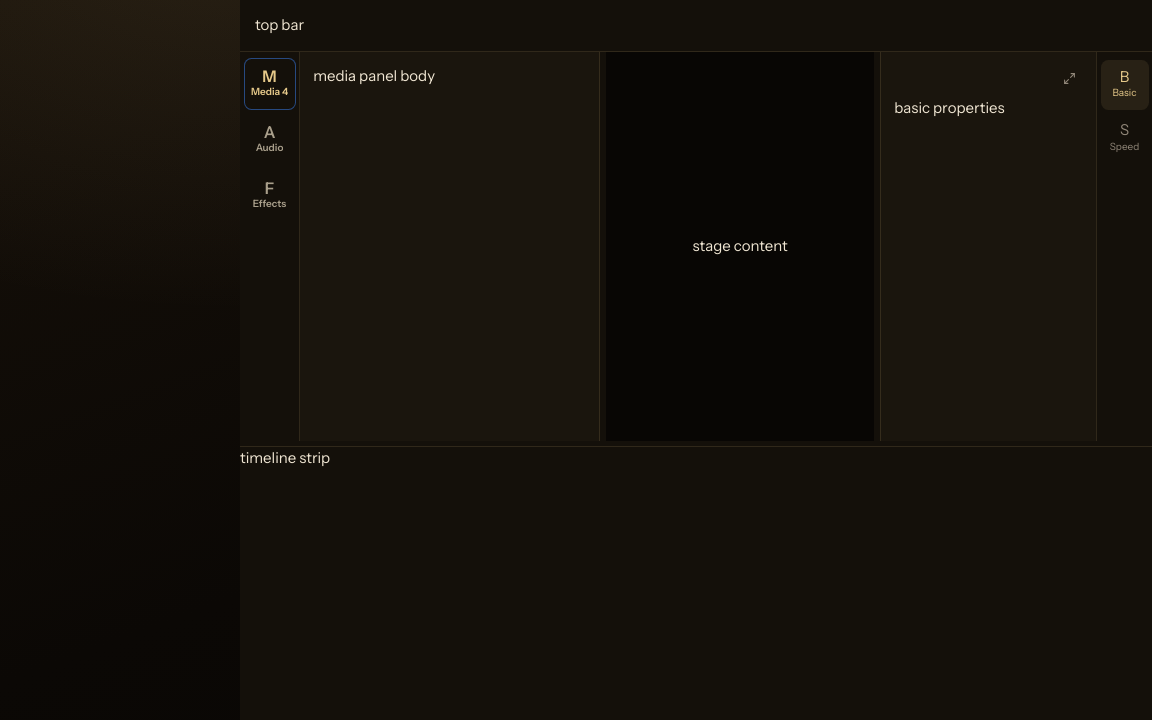
Scenario: EditorShell › switches property panels independently of the tool rail
Click the tab "S Speed" at x=1124, y=138, box left=1100, top=113, right=1148, bottom=163
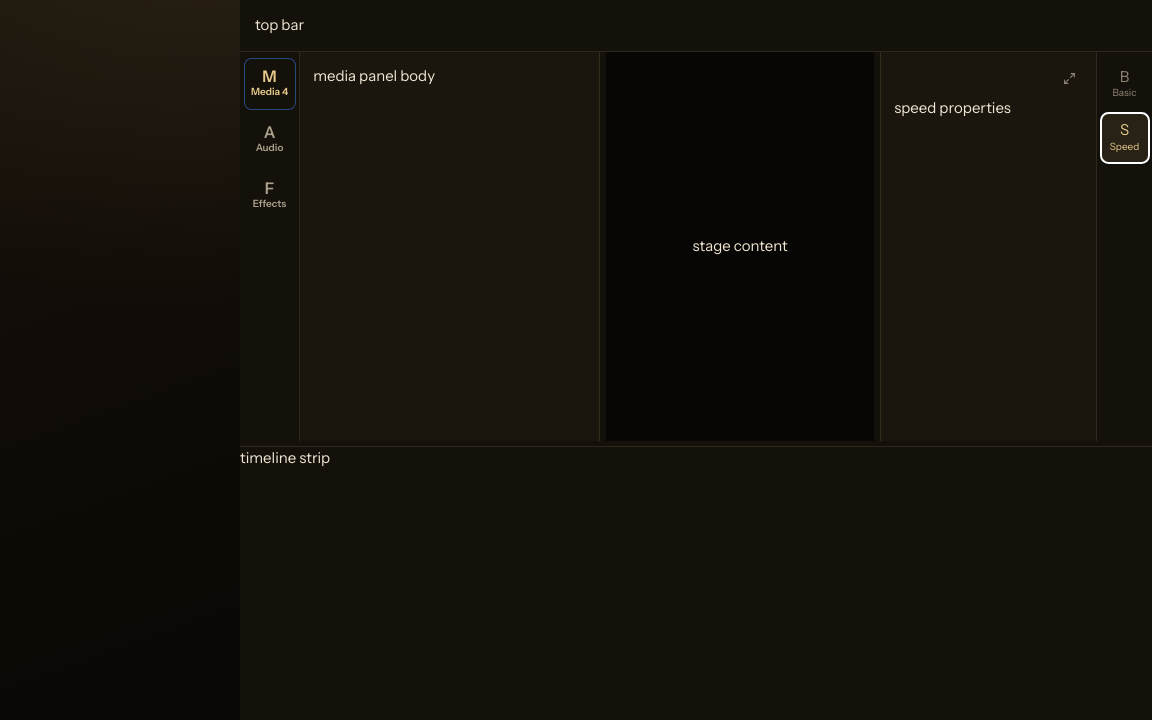
Expected: the text "media panel body" is shown, left=313, top=66, right=435, bottom=85
Now the text "speed properties" is shown, box left=894, top=98, right=1011, bottom=117
